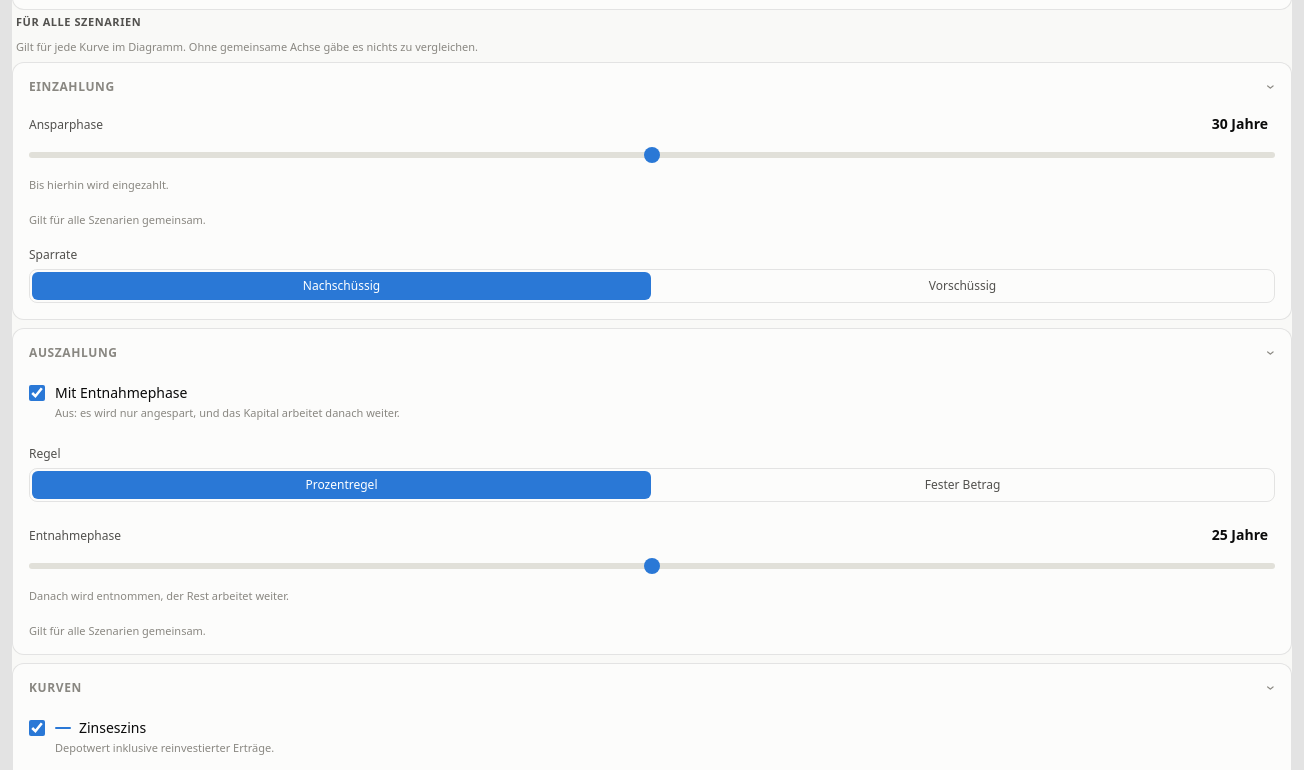
Test: SettingsPanel: Entnahmephase › erklärt die leer gewordene Karte, statt sie verschwinden zu lassen
This screenshot has width=1304, height=770.
(page scrolled)
Click the checkbox labelled "Mit Entnahmephase": point(37, 393) 29,385 -> 45,401
(page scrolled)
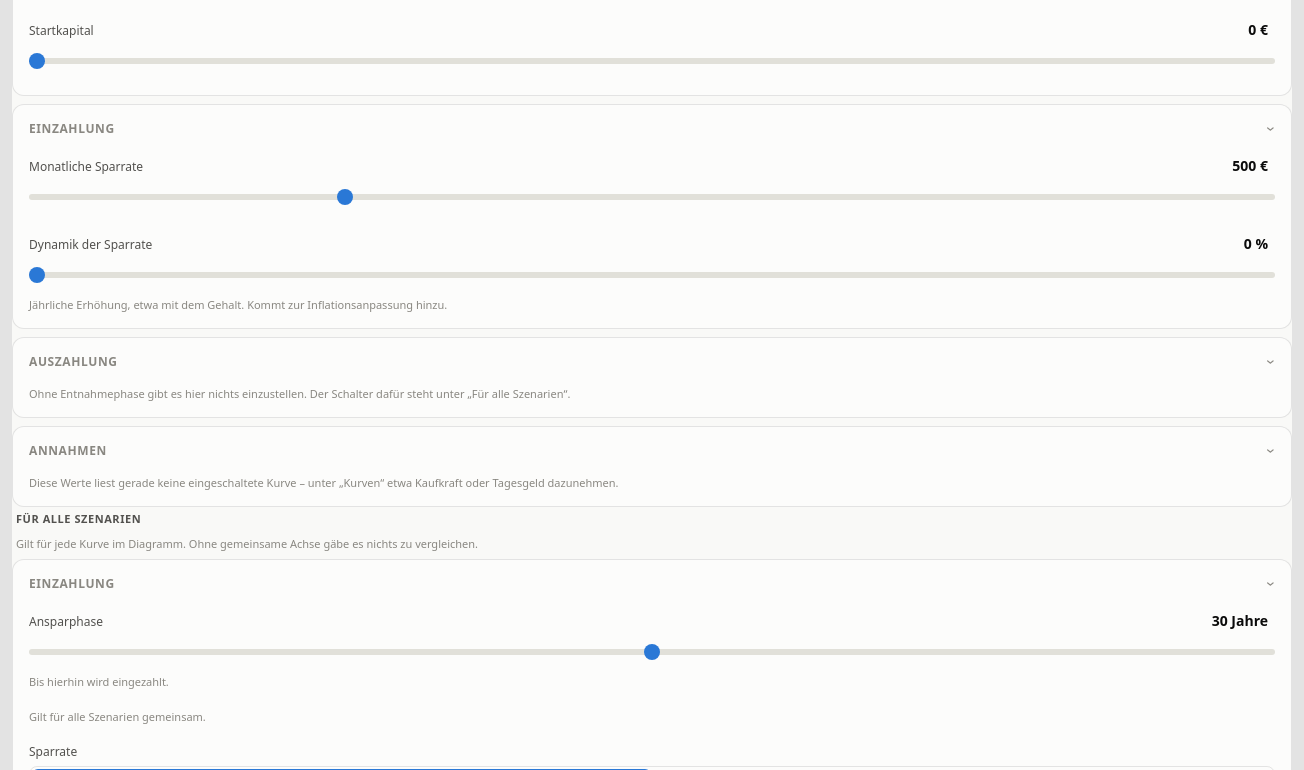
Expected: the text "Ohne Entnahmephase" is shown, 29,386 -> 570,401
